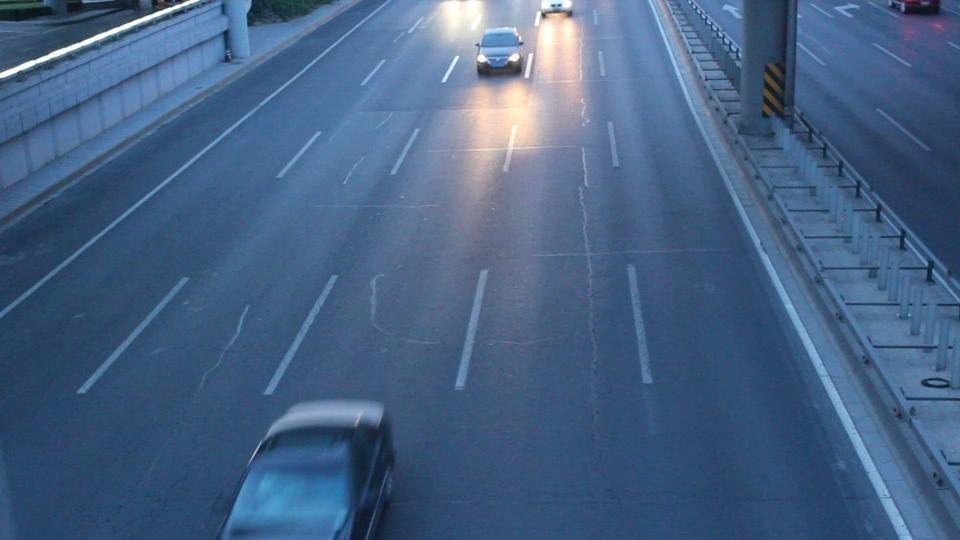car: (217, 396, 398, 539), (532, 7, 583, 80), (475, 28, 525, 76), (888, 0, 941, 16), (538, 0, 574, 18)
